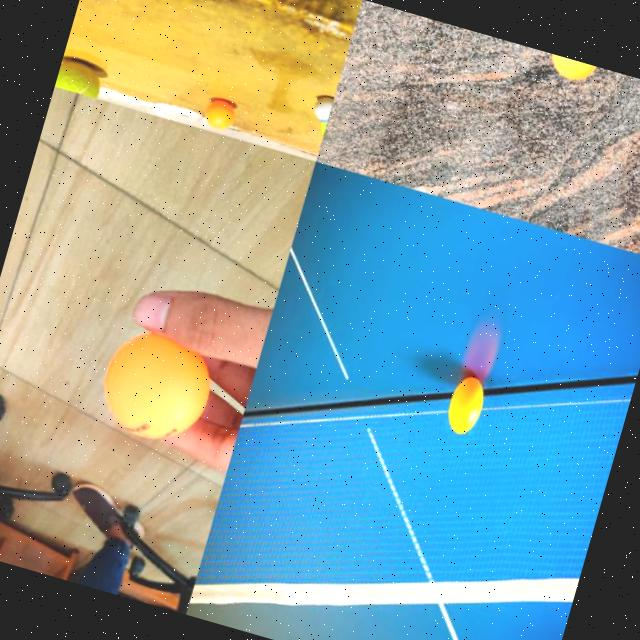ping-pong-ball: (94, 325, 223, 452), (443, 372, 490, 437), (548, 54, 598, 87), (202, 96, 238, 134)
